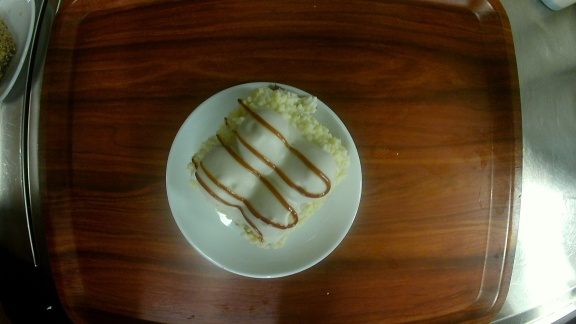beyazpasta: (167, 82, 364, 278)
